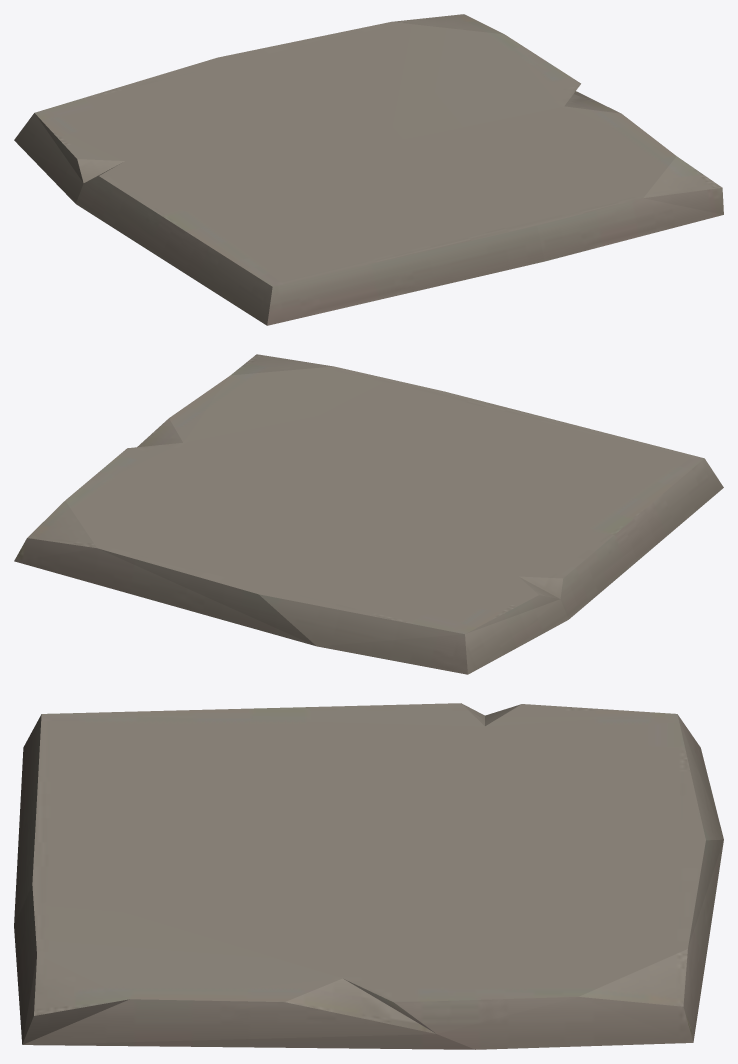
Rendered from step_trail.glb.
The picture shows the model from 3 angles, top to bottom: view 1: azimuth 30°, elevation 25°; view 2: azimuth 150°, elevation 25°; view 3: azimuth 270°, elevation 25°; orthographic projection. The views are drawn at different scales.
Visible parts, largest first — view 1: step_trail; view 2: step_trail; view 3: step_trail.
Boxes of the visible parts, box(x1,y1,x2,y2) form: step_trail: box(14, 14, 723, 325); step_trail: box(14, 354, 723, 674); step_trail: box(14, 703, 723, 1049).
Bounding box in the file's own units: 0.65 × 0.04 × 0.62.
1 material, 1 textured.
